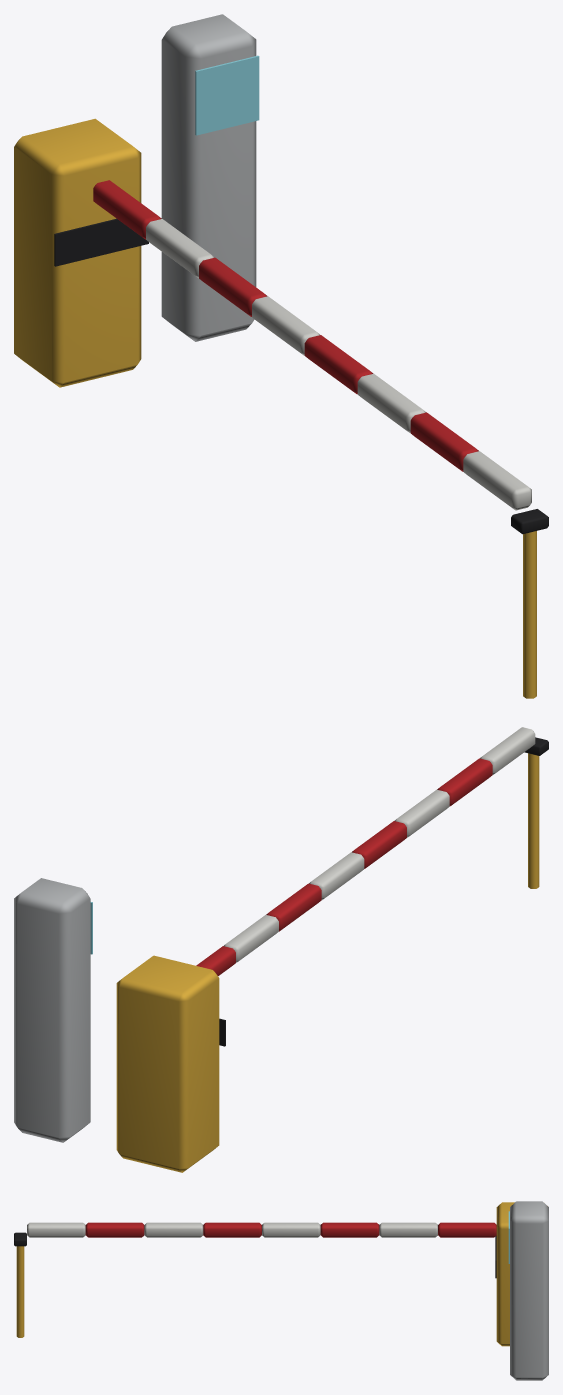
File: BoomBarrierMIA.fbx
3 views of the same model, one above another, from view 1: azimuth 30°, elevation 25°; view 2: azimuth 150°, elevation 25°; view 3: azimuth 270°, elevation 25° (orthographic). The views are drawn at different scales.
Visible parts, largest first — view 1: BoomBarrierMIA; view 2: BoomBarrierMIA; view 3: BoomBarrierMIA.
Boxes of the visible parts, bbox=[...] form: BoomBarrierMIA: bbox=[14, 14, 548, 698]; BoomBarrierMIA: bbox=[14, 727, 548, 1172]; BoomBarrierMIA: bbox=[14, 1201, 548, 1380].
Size of the model in its own units: 1.08 by 1.4 by 4.1.
